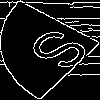S: (25, 25, 100, 80)
